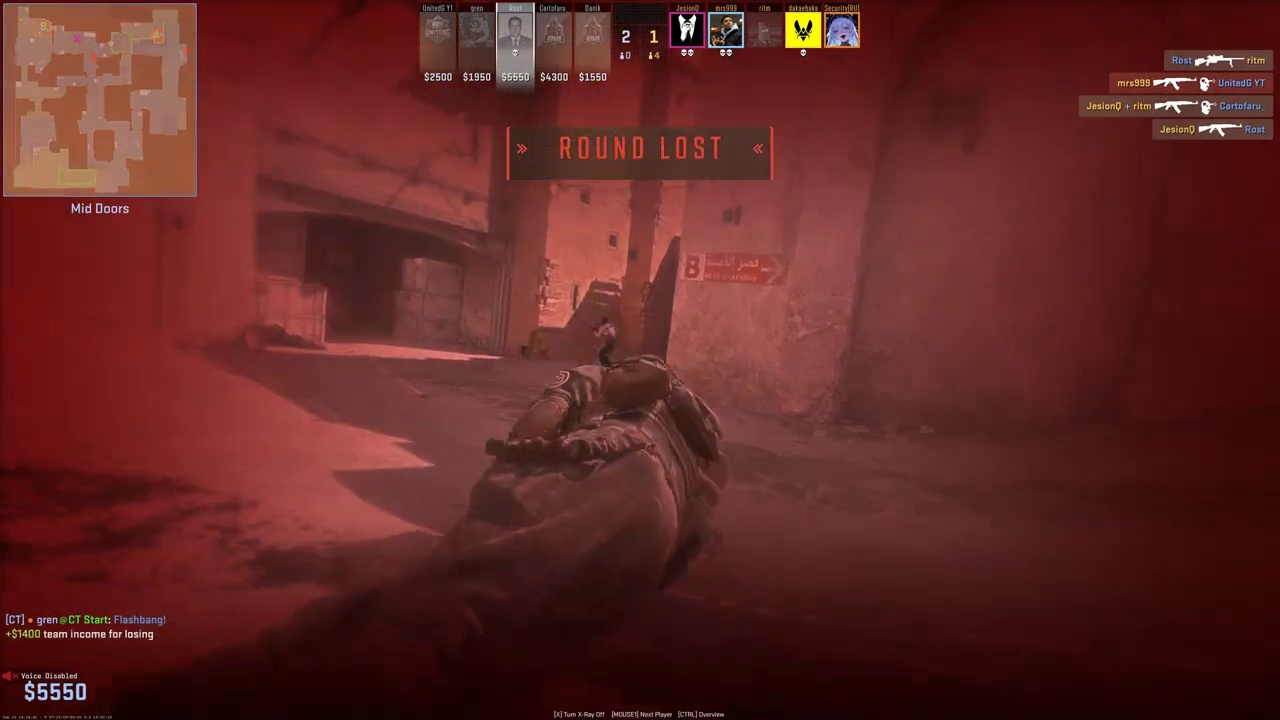Terrorist: (594, 317, 617, 368)
